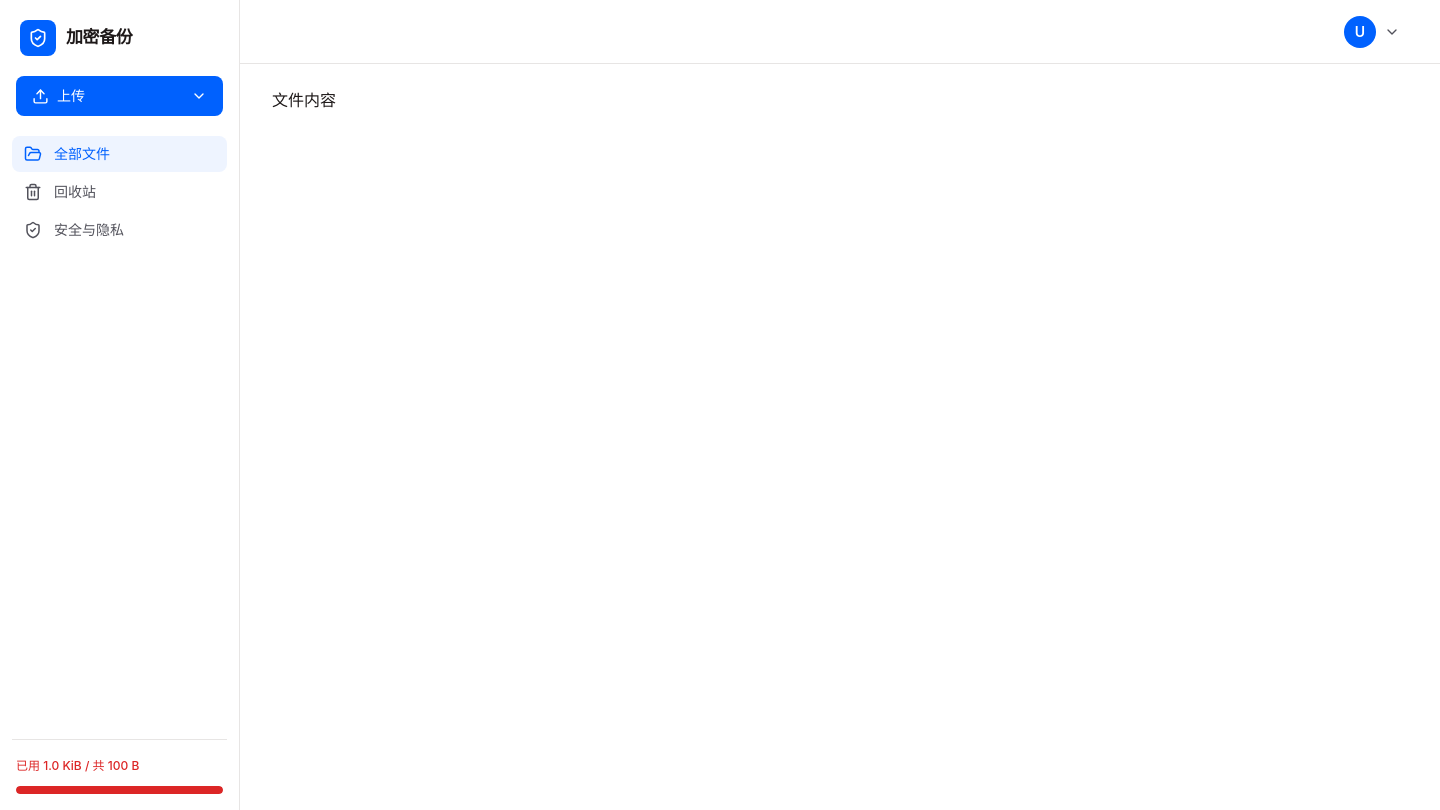
Test: AppShell › 账号菜单展示邮箱、验证状态并可进入账号设置
This screenshot has width=1440, height=810.
Click the button "U" at (1374, 32), box [1340,14,1408,50]
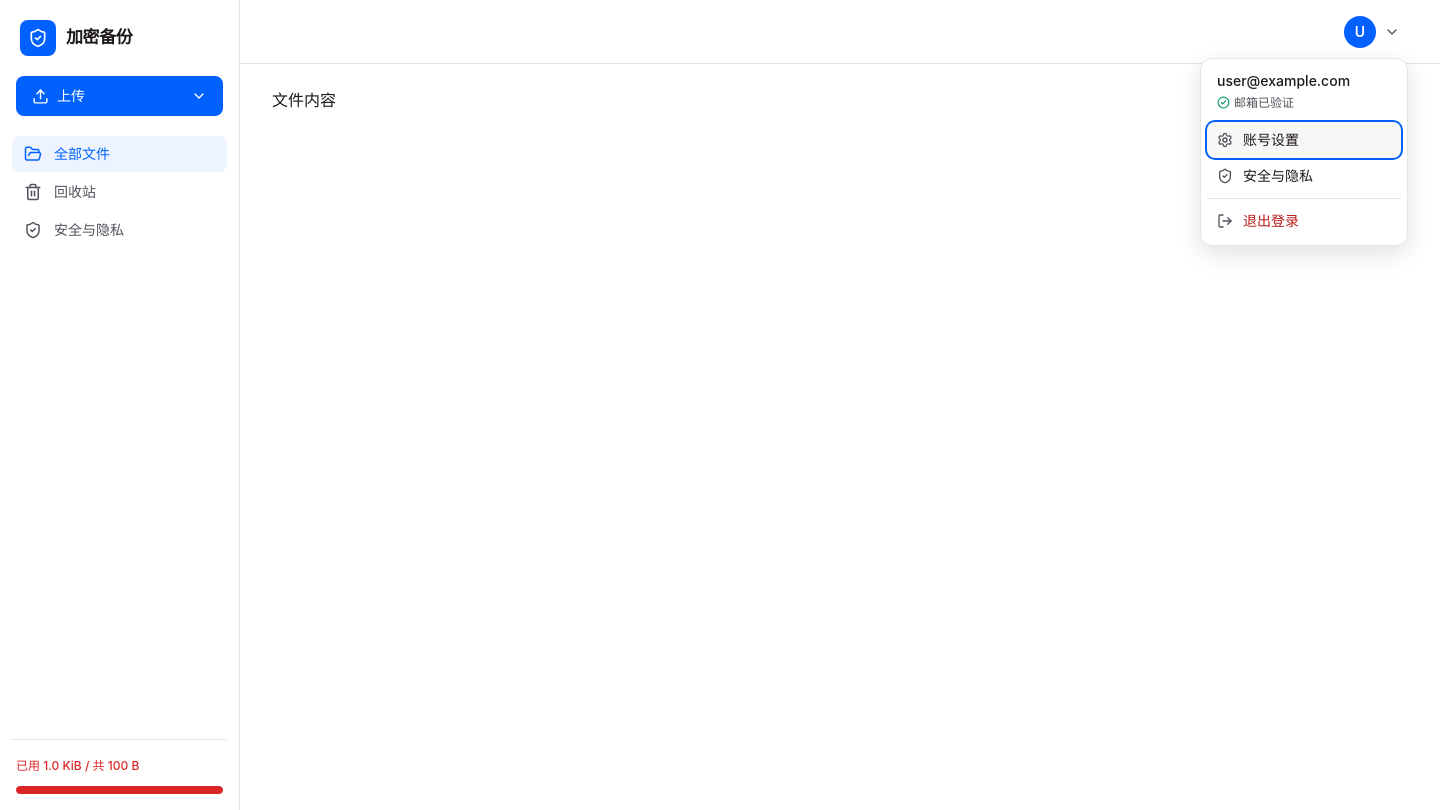
Result: the menu named "账号菜单" is shown at [1200,58,1408,246]
Result: the element with test id "home-verified" reads "邮箱已验证" at [1234,94,1294,110]
Click the menu item "账号设置" at (1304, 140), box [1207,122,1401,158]
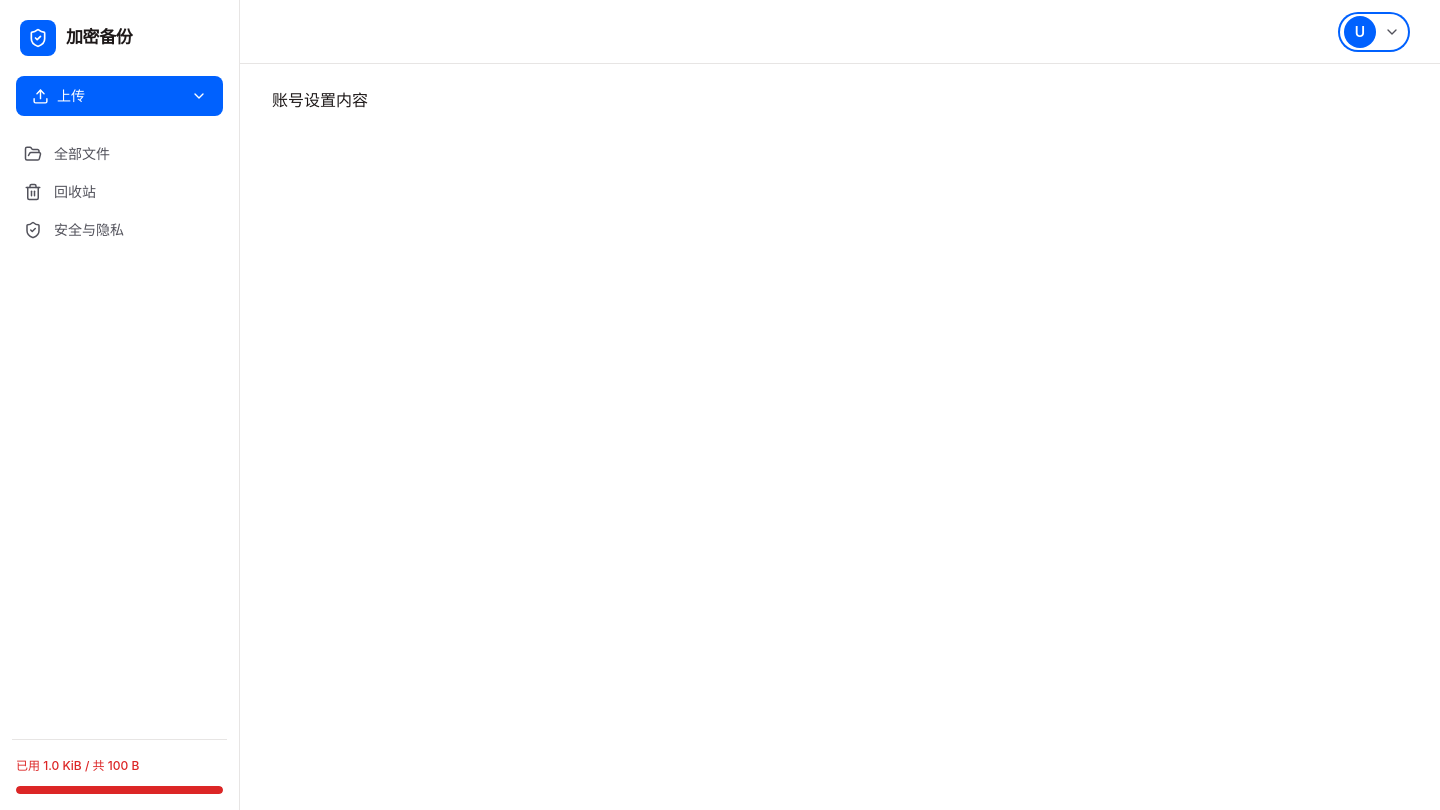
Result: the text "账号设置内容" is shown at [272,90,368,110]
